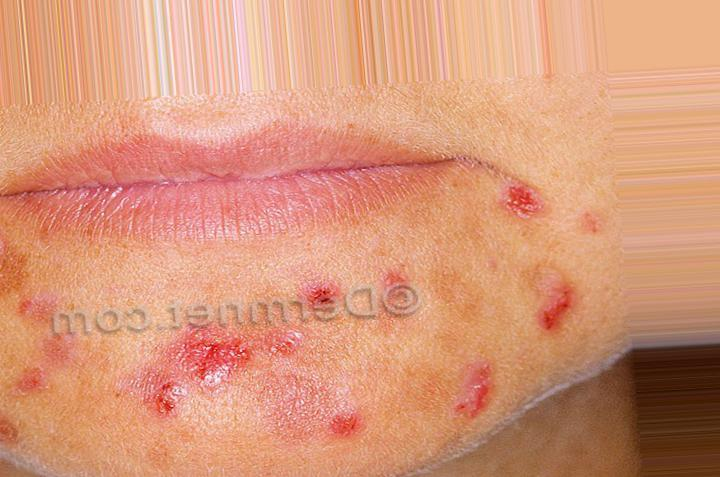Acne: (130, 325, 256, 425), (6, 289, 88, 424), (300, 379, 421, 460), (469, 156, 549, 237), (523, 248, 599, 329), (295, 266, 392, 328), (438, 335, 506, 420)
